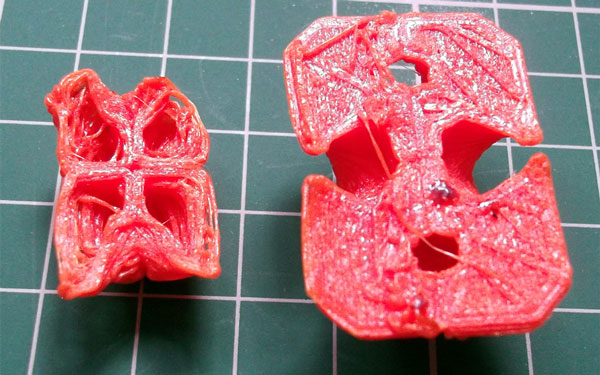3dptoplayergaps: (53, 180, 130, 286), (47, 84, 130, 173), (291, 19, 386, 95), (368, 203, 425, 273)
